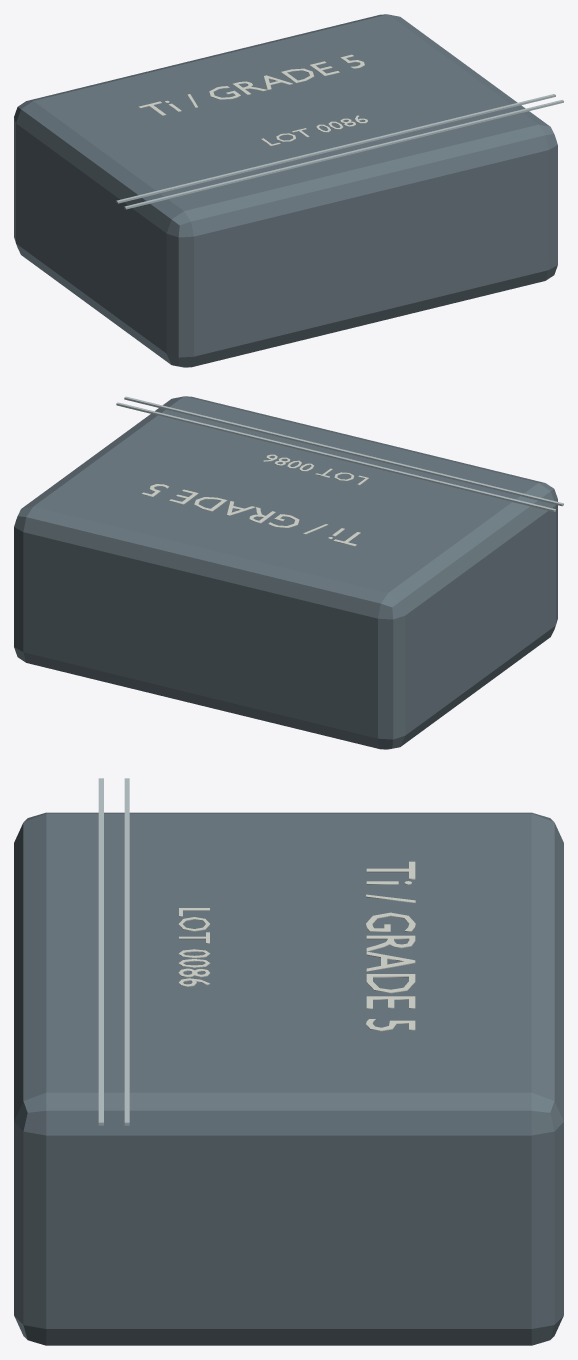
The model's file is loot_titanium_ingot.glb.
3 renders of one model, top to bottom at view 1: azimuth 30°, elevation 25°; view 2: azimuth 150°, elevation 25°; view 3: azimuth 270°, elevation 25°, orthographic. The views are drawn at different scales.
Parts seen in each view (by area): view 1: loot_titanium_ingot; view 2: loot_titanium_ingot; view 3: loot_titanium_ingot.
Boxes of the visible parts, x1,y1,x2,y2 form: loot_titanium_ingot: (14,14,563,367); loot_titanium_ingot: (14,396,563,749); loot_titanium_ingot: (14,778,563,1345).
Size of the model in its own units: 0.126 by 0.0441 by 0.085.
